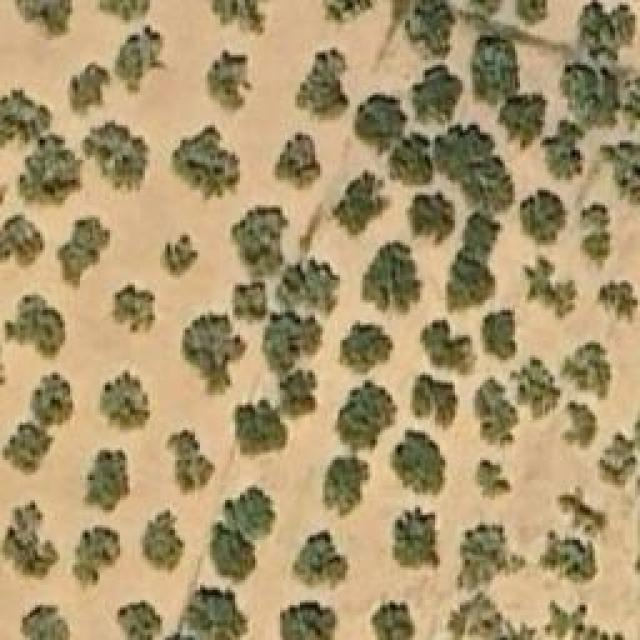Tree: (435, 123, 515, 216), (183, 310, 248, 395), (170, 125, 240, 203), (448, 210, 503, 308), (15, 133, 83, 208), (85, 120, 150, 195), (0, 500, 60, 580), (232, 205, 290, 278), (363, 243, 423, 313), (295, 48, 350, 123), (338, 380, 398, 448), (560, 65, 620, 130), (58, 215, 110, 288), (230, 398, 289, 461), (70, 525, 123, 595), (470, 35, 520, 108), (165, 430, 218, 498), (418, 320, 478, 380), (533, 530, 598, 585), (335, 170, 393, 230), (278, 260, 341, 315), (115, 25, 168, 90), (510, 355, 560, 423), (473, 375, 518, 450), (5, 295, 63, 353), (98, 370, 151, 433), (525, 258, 578, 321), (265, 310, 322, 368), (220, 485, 279, 541), (0, 84, 52, 147), (205, 50, 253, 118), (82, 447, 130, 515), (273, 130, 323, 195), (337, 320, 395, 375), (577, 0, 635, 55), (187, 585, 245, 640), (295, 530, 348, 590), (137, 510, 185, 575), (392, 508, 440, 571), (322, 455, 370, 518), (395, 433, 445, 493), (413, 65, 463, 125), (563, 340, 613, 398), (458, 530, 508, 588), (208, 525, 258, 582), (0, 213, 45, 276), (600, 140, 640, 210), (445, 592, 503, 640), (353, 95, 406, 145), (535, 125, 584, 179), (407, 193, 455, 248), (520, 190, 568, 245), (410, 373, 458, 428), (205, 0, 278, 35), (8, 420, 52, 478), (410, 0, 453, 58), (498, 93, 546, 144), (30, 370, 76, 423), (15, 0, 73, 40), (598, 430, 638, 488), (280, 600, 338, 640), (113, 285, 156, 338), (578, 203, 613, 268), (388, 135, 433, 185), (517, 0, 605, 25), (68, 63, 108, 118), (480, 310, 518, 363), (275, 368, 316, 417), (115, 602, 163, 640), (622, 65, 640, 165), (20, 605, 70, 640), (473, 458, 513, 501), (160, 233, 198, 278), (373, 602, 418, 640), (563, 402, 598, 450), (320, 0, 375, 30), (598, 280, 638, 318), (233, 283, 268, 323), (95, 0, 150, 25)
